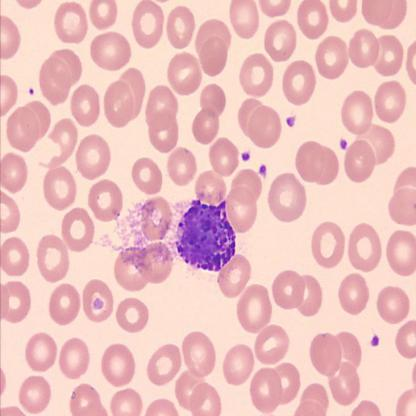Basophil: (173, 198, 238, 275)
